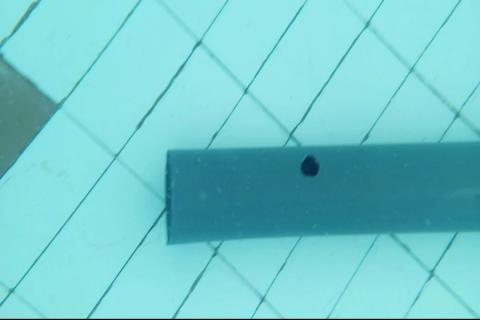kebocoran: (298, 153, 321, 177)
